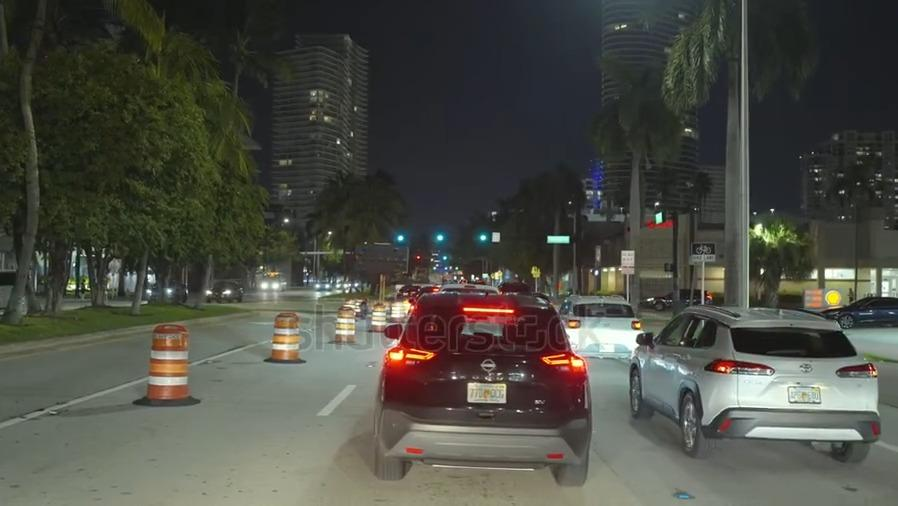bus: (260, 268, 289, 295)
car: (391, 295, 590, 479), (637, 307, 882, 449), (559, 291, 642, 362), (826, 293, 898, 331), (641, 286, 713, 312), (0, 265, 37, 311), (137, 279, 191, 306), (202, 278, 247, 308), (313, 278, 333, 293)
cone: (146, 319, 191, 404), (268, 309, 301, 363), (333, 303, 354, 344), (368, 299, 383, 335), (385, 297, 400, 322)
traffic light: (388, 225, 411, 253), (431, 223, 451, 254), (473, 227, 489, 253)
wheel: (676, 388, 703, 455), (626, 367, 643, 416)
